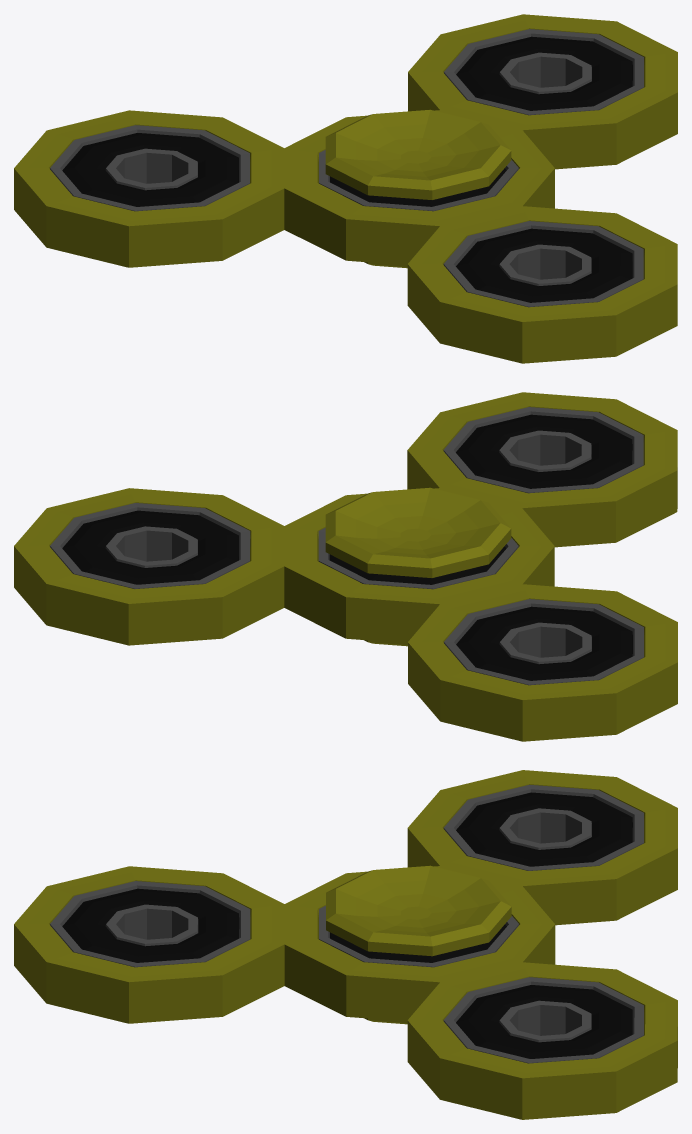
The model's file is spiner.obj.
The picture shows the model from 3 angles, top to bottom: view 1: azimuth 30°, elevation 25°; view 2: azimuth 150°, elevation 25°; view 3: azimuth 270°, elevation 25°; orthographic projection.
Parts seen in each view (by area): view 1: Circle; view 2: Circle; view 3: Circle.
Boxes of the visible parts, <box> form: Circle: <box>14,14,677,363</box>; Circle: <box>14,392,677,741</box>; Circle: <box>14,770,677,1119</box>.
Bounding box in the file's own units: 5.24 × 0.7089 × 4.77.
